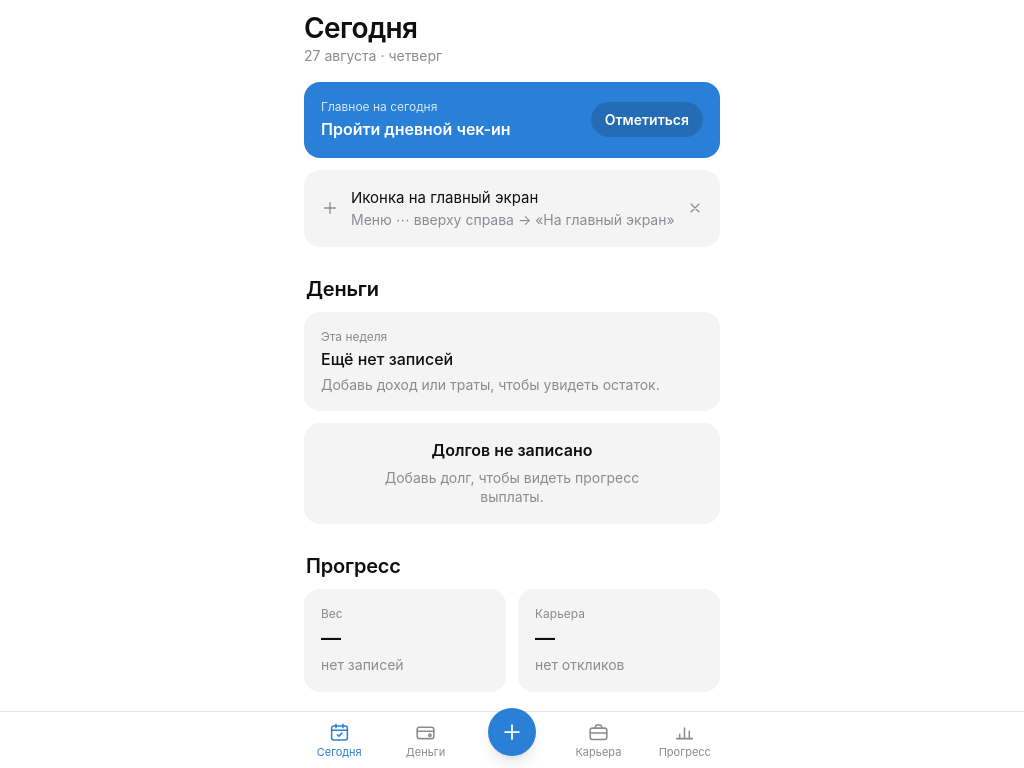
Test case: add button › opens a working form for Доход
Check: the text "Главное на сегодня" is shown, box [321,99,437,114]
Click the button named "Добавить запись". click: [512, 732]
box: [488,708,536,756]
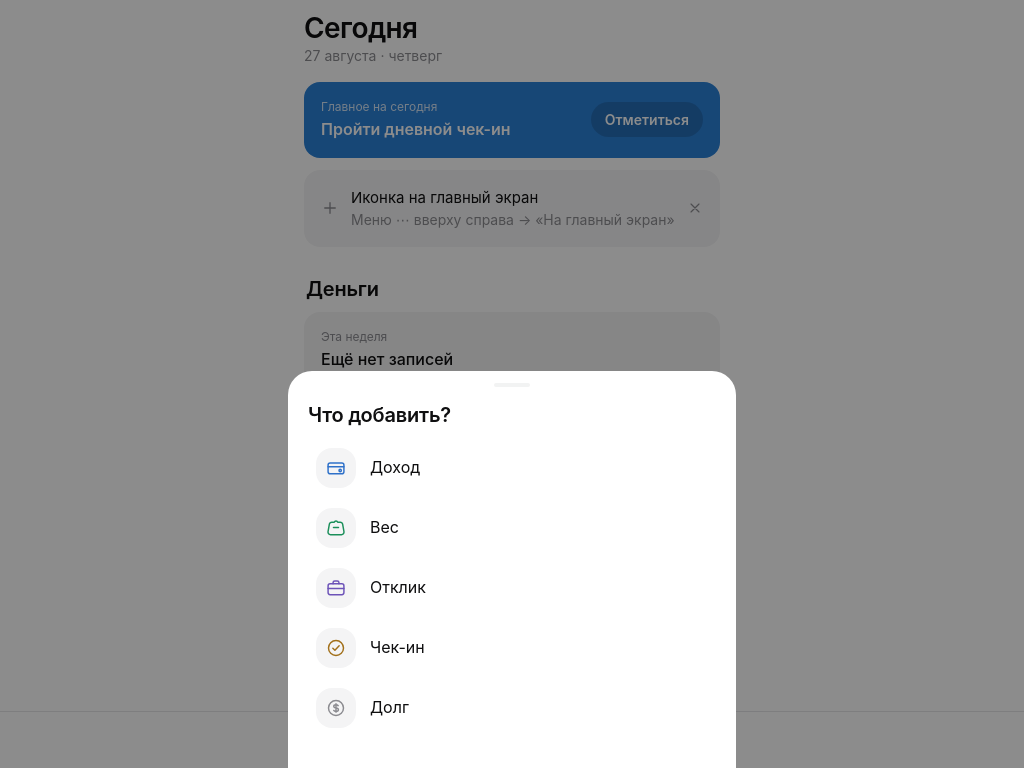
Check: the heading "Что добавить?" is shown, box [308,403,451,427]
Click the button "Доход". click: [336, 468]
box: [304,440,720,496]
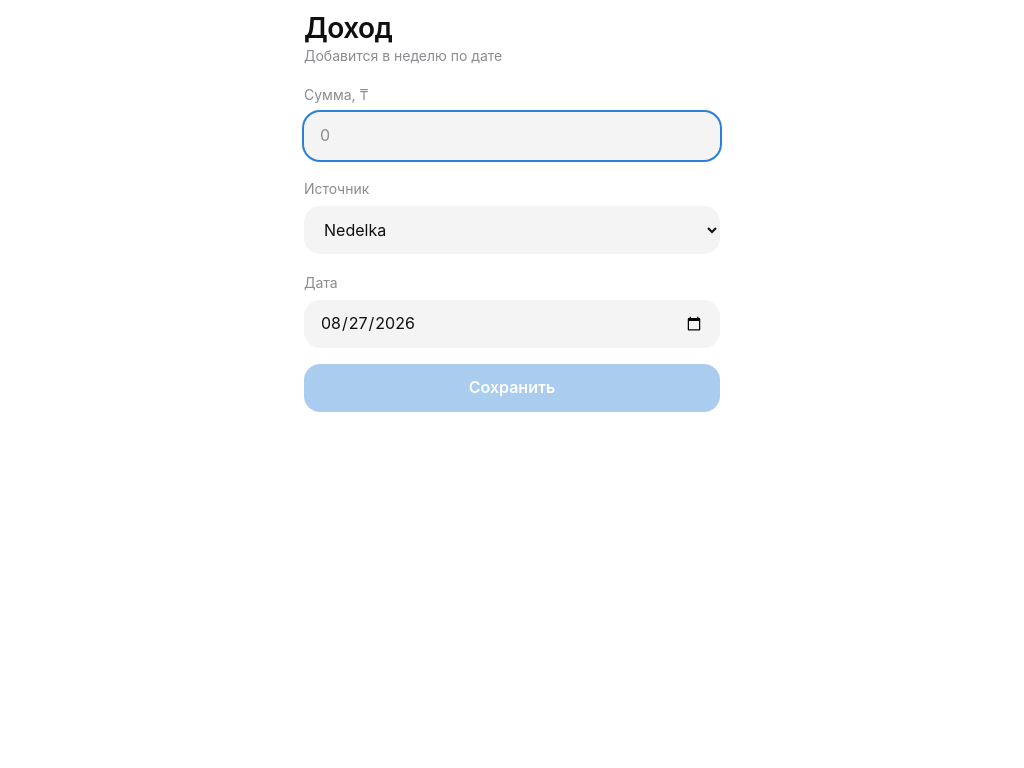
Check: the text "Сумма, ₸" is shown, box [304,86,368,103]
